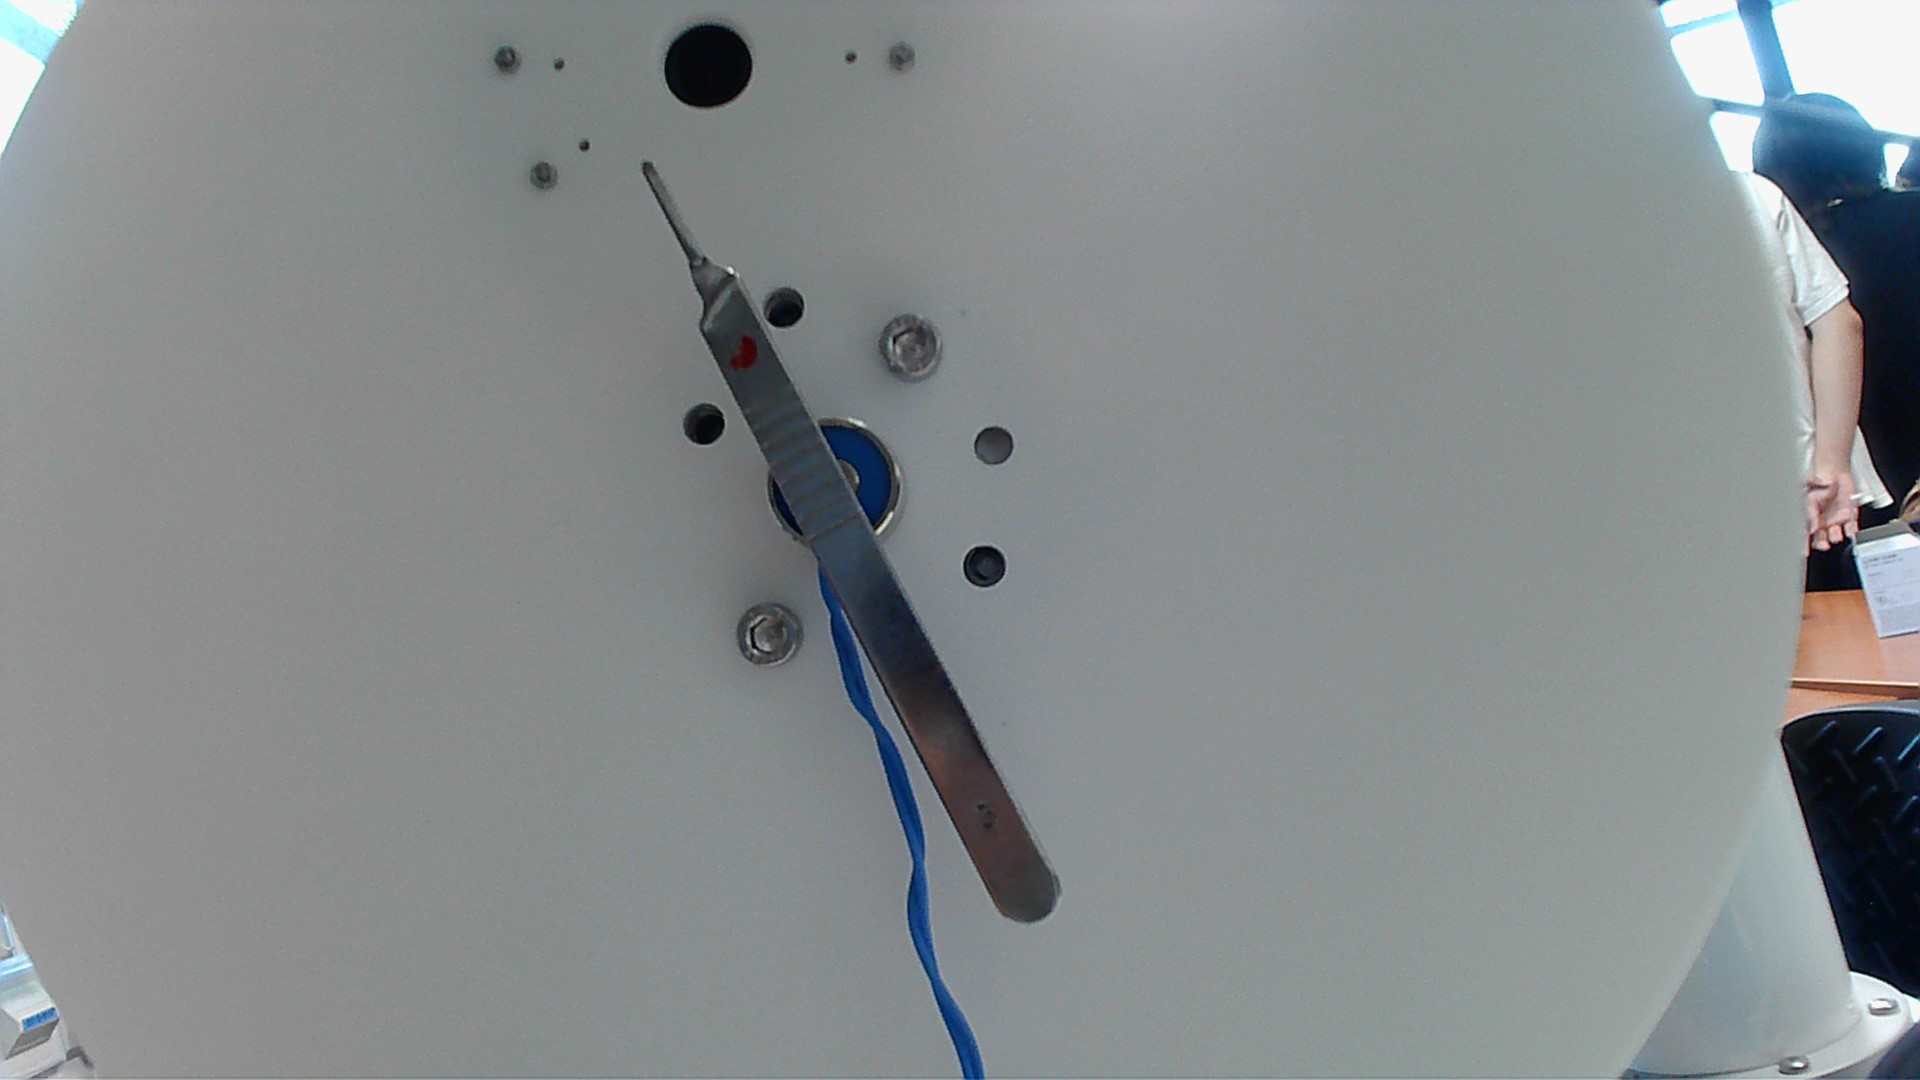Stain: (724, 330, 764, 371)
